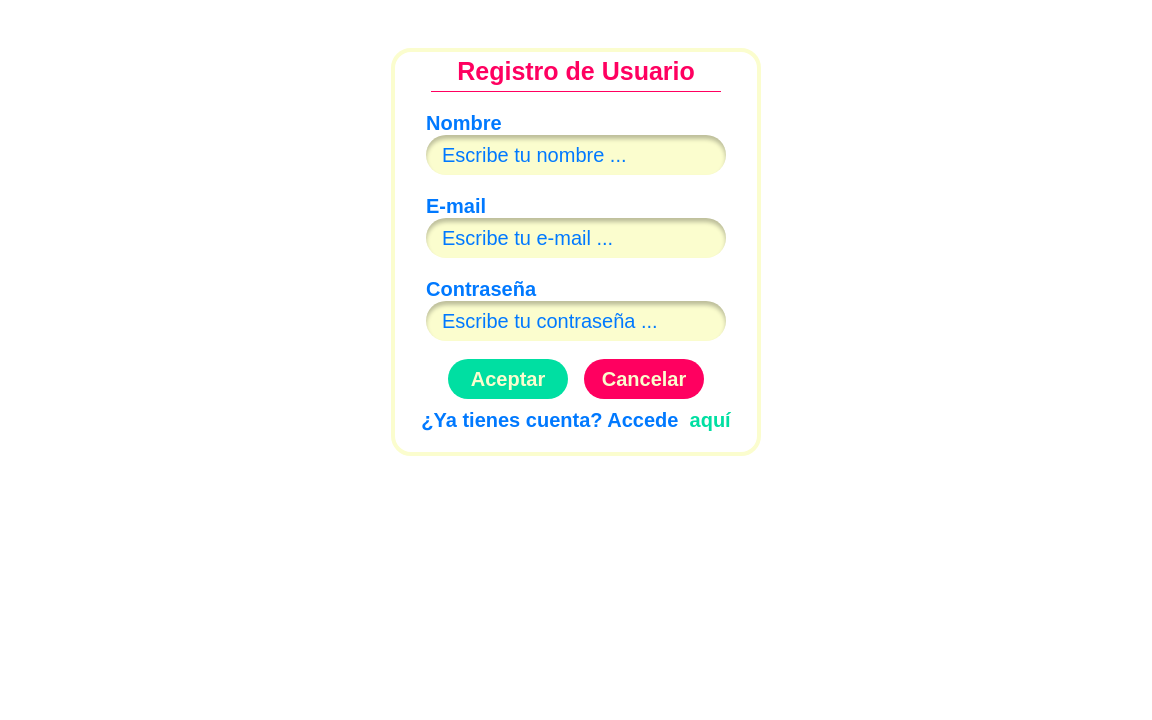
RegisterCard Integration Test › should submit the form and display a success message
Type "maria" into the field with placeholder "Escribe tu nombre ..." at (576, 155), box [426, 135, 726, 175]
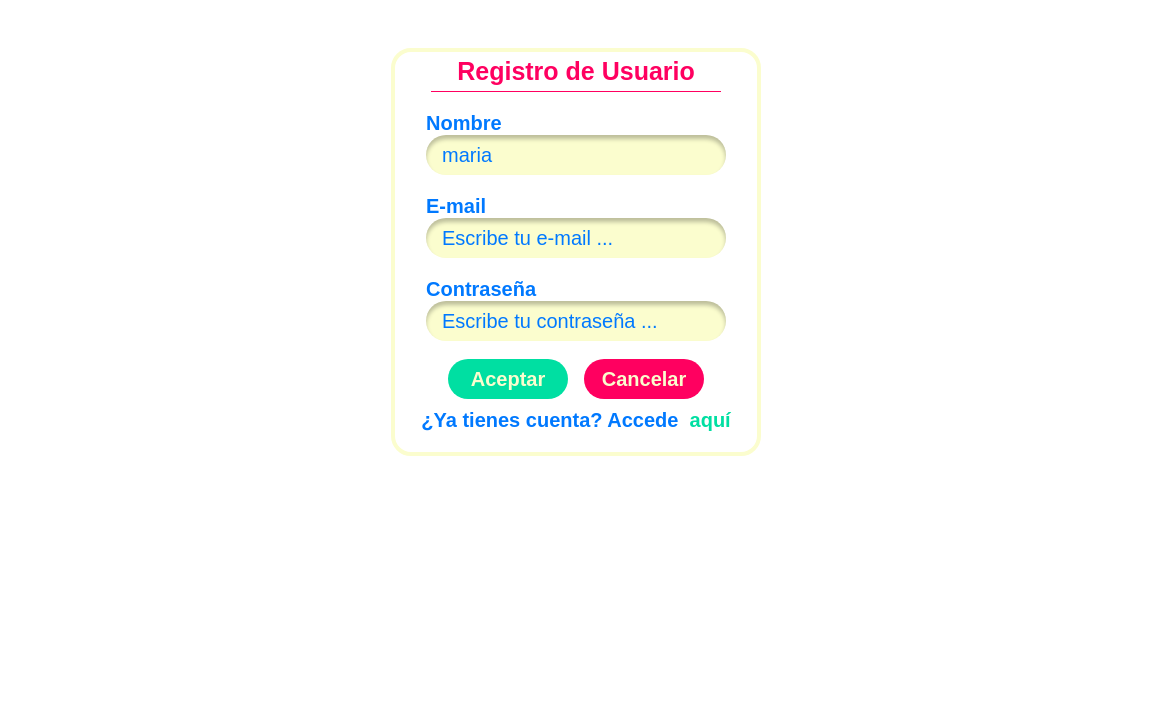
Type "maria0@gmail.com" into the field with placeholder "Escribe tu e-mail ..." at (576, 238), box [426, 218, 726, 258]
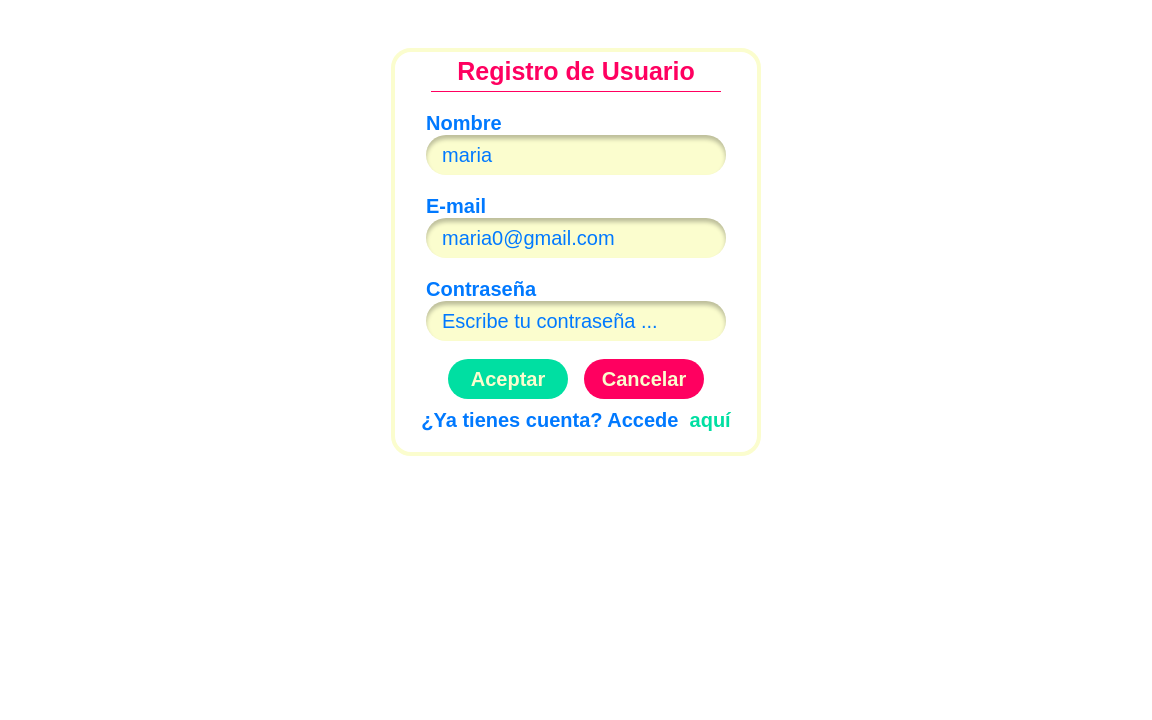
Type "1234" into the password field with placeholder "Escribe tu contraseña ..." at (576, 321), box [426, 301, 726, 341]
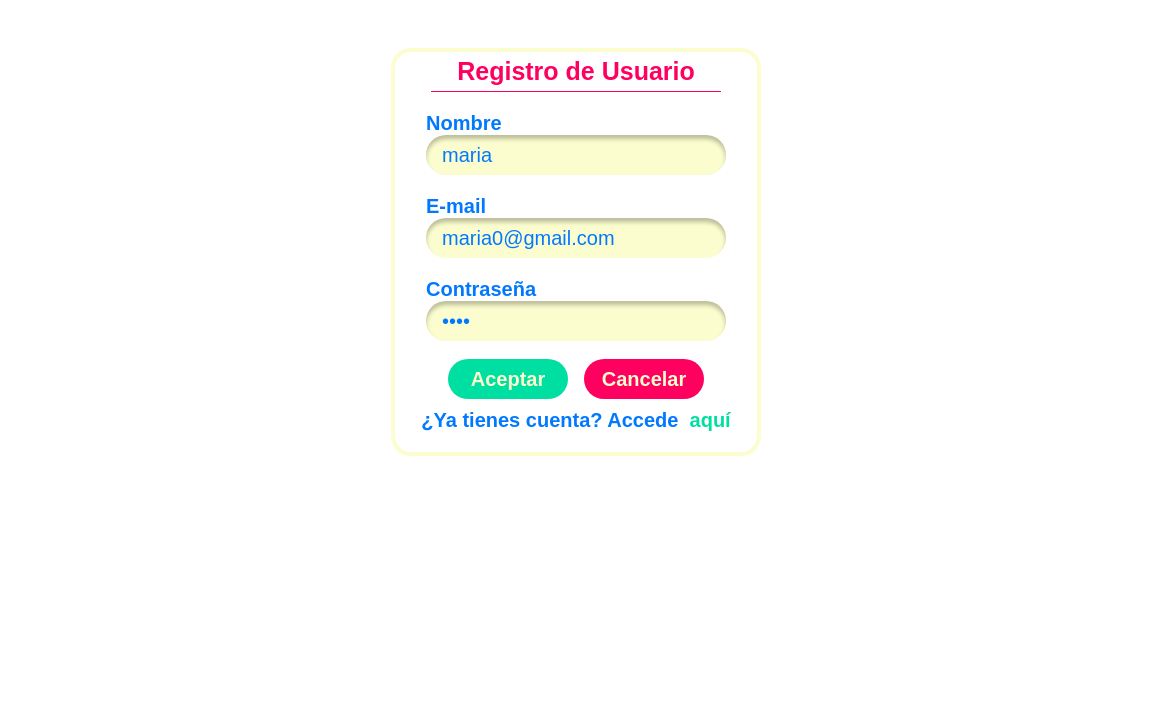
Click the button "Aceptar" at (508, 379), box [448, 359, 568, 399]
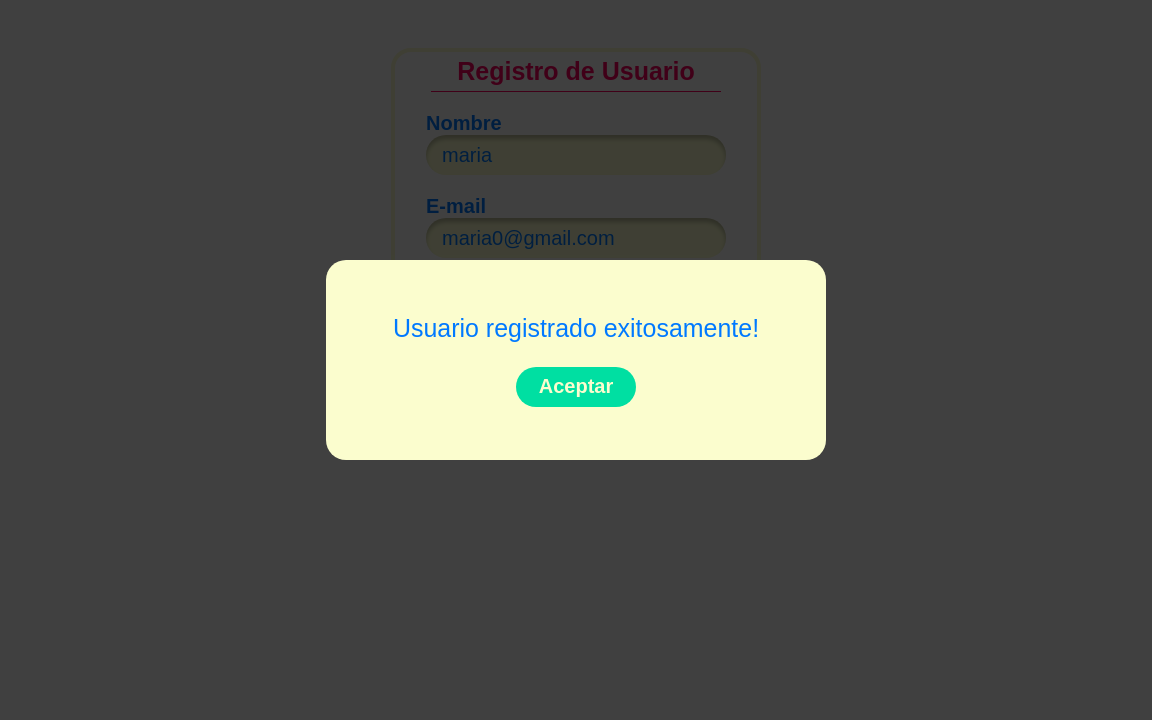
Check: the heading "Usuario registrado exitosamente!" is shown, box [393, 314, 759, 342]
Click the button "Aceptar" at (576, 386), box [516, 366, 636, 406]
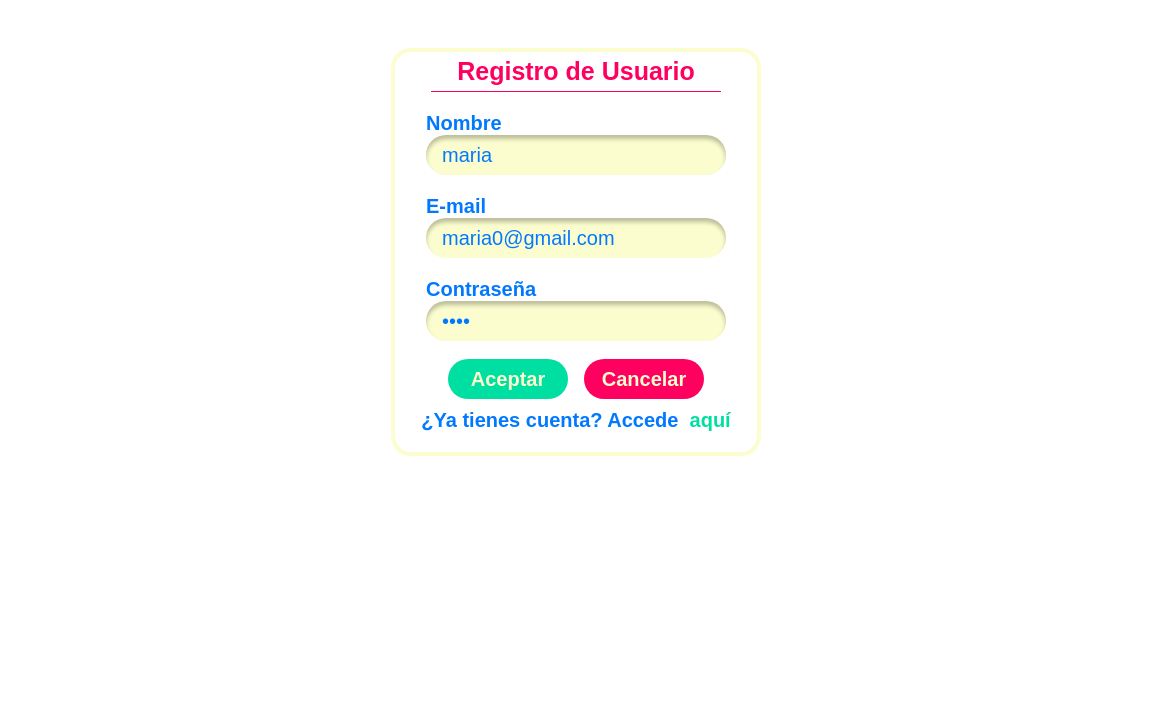
Check: the heading "Usuario registrado exitosamente!" is gone
